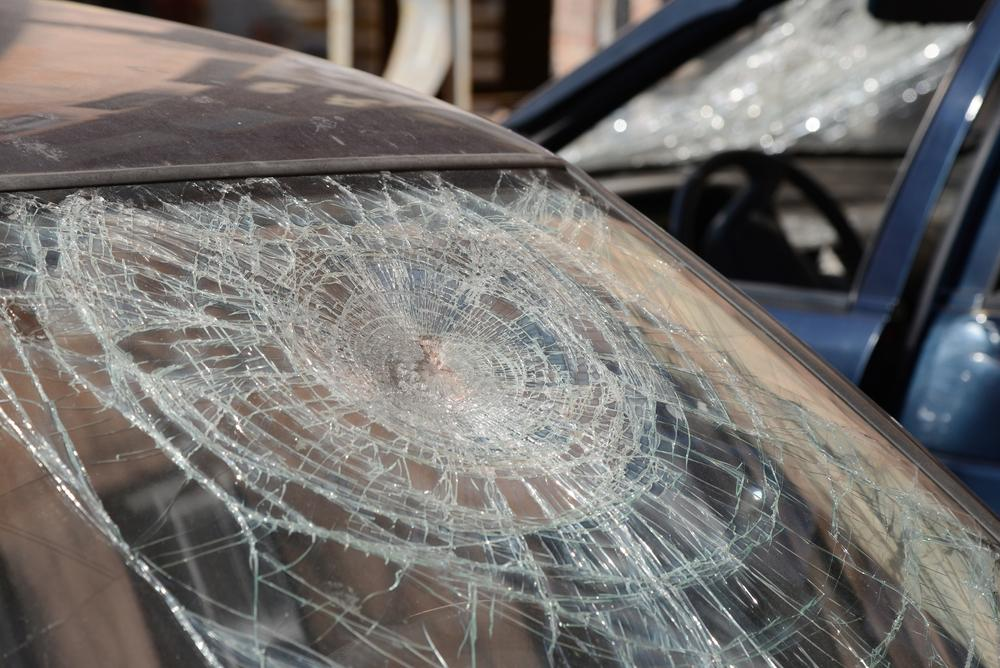glass shatter: (0, 167, 1000, 668)
